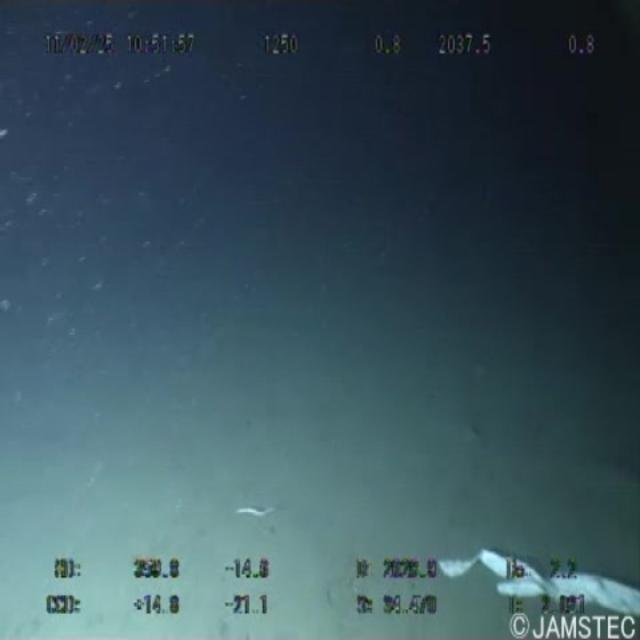Litter: (224, 476, 283, 530)
Plastic: (405, 520, 640, 613)
